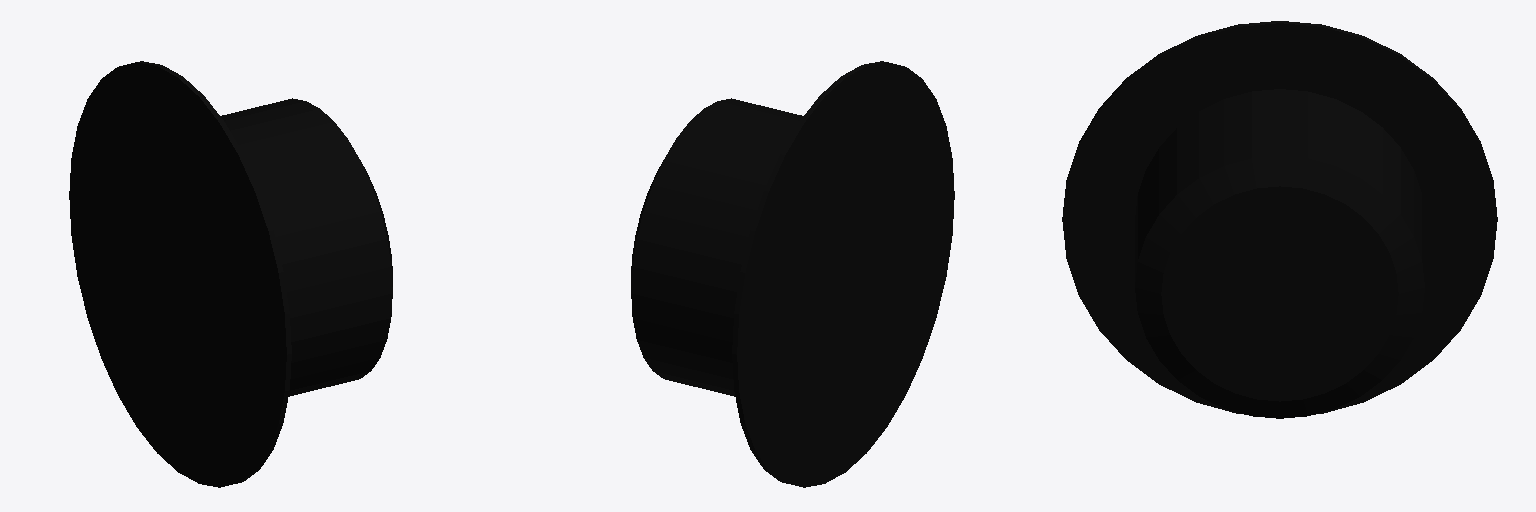
Rendered from Macro_Focusing.obj.
3 renders of one model, left to right at view 1: azimuth 30°, elevation 25°; view 2: azimuth 150°, elevation 25°; view 3: azimuth 270°, elevation 25°, orthographic.
Parts seen in each view (by area): view 1: Cylinder.002, Cylinder.001; view 2: Cylinder.002, Cylinder.001; view 3: Cylinder.001, Cylinder.002.
Part boxes in pixels (bbox=[...]): Cylinder.002: bbox=[69, 61, 291, 487]; Cylinder.001: bbox=[220, 98, 392, 396]; Cylinder.002: bbox=[732, 61, 954, 487]; Cylinder.001: bbox=[631, 98, 803, 396]; Cylinder.001: bbox=[1135, 89, 1424, 418]; Cylinder.002: bbox=[1062, 21, 1497, 414].
Bounding box in the file's own units: 0.62 × 1.5 × 1.5.